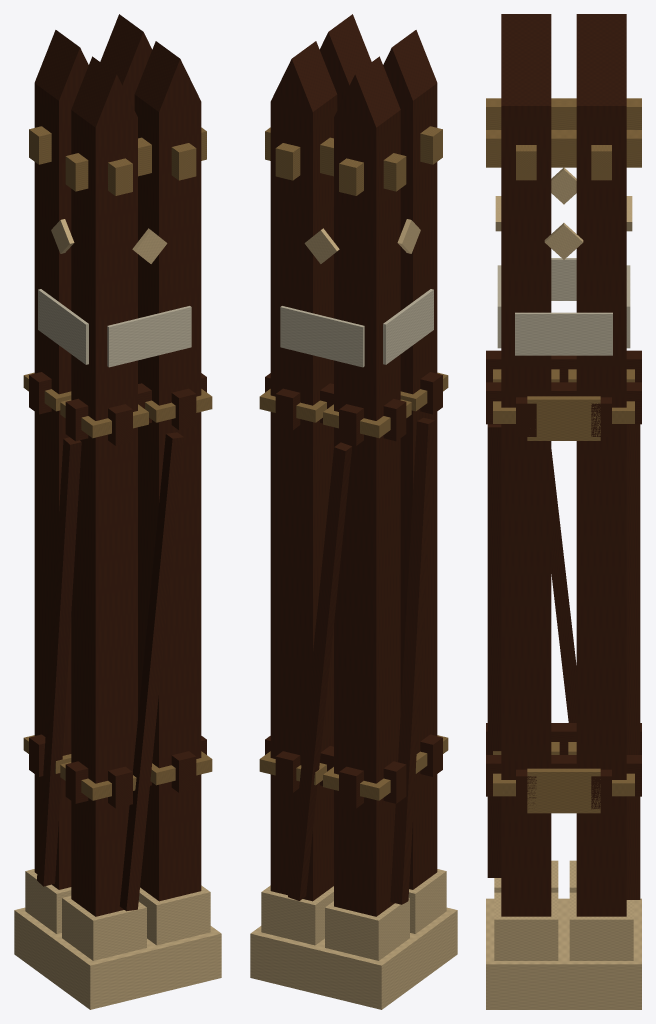
File: Berber_PalisadeBastion_Age4_terminal.fbx
3 renders of one model, left to right at view 1: azimuth 30°, elevation 25°; view 2: azimuth 150°, elevation 25°; view 3: azimuth 270°, elevation 25°, orthographic. The views are drawn at different scales.
Parts seen in each view (by area): view 1: split_timber_upright, split_timber_upright.002, split_timber_upright.001, compacted_earth_footing, terminal_diagonal_stay.004, terminal_diagonal_stay.002, earth_post_socket, native_owner_stripe_source.002, earth_post_socket.002, split_timber_upright.003, native_owner_stripe_source, earth_post_socket.001 (+17 smaller); view 2: split_timber_upright.001, split_timber_upright.003, split_timber_upright, compacted_earth_footing, terminal_diagonal_stay.002, terminal_diagonal_stay, earth_post_socket.001, native_owner_stripe_source.003, earth_post_socket.003, split_timber_upright.002, native_owner_stripe_source, earth_post_socket (+17 smaller); view 3: split_timber_upright.002, split_timber_upright.003, compacted_earth_footing, terminal_diagonal_stay, terminal_diagonal_stay.004, native_owner_stripe_source.001, earth_post_socket.002, earth_post_socket.003, exposed_wall_socket_collar, terminal_diagonal_stay.002, exposed_wall_socket_collar.001, locking_head_tie_y.001 (+19 smaller).
Boxes of the visible parts, x1,y1,x2,y2 form: split_timber_upright: [71, 56, 137, 916]; split_timber_upright.002: [134, 41, 201, 901]; split_timber_upright.001: [34, 30, 88, 889]; compacted_earth_footing: [14, 907, 221, 1009]; terminal_diagonal_stay.004: [119, 432, 183, 911]; terminal_diagonal_stay.002: [37, 437, 81, 886]; earth_post_socket: [62, 896, 146, 960]; native_owner_stripe_source.002: [107, 306, 191, 367]; earth_post_socket.002: [138, 885, 210, 945]; split_timber_upright.003: [100, 14, 152, 109]; native_owner_stripe_source: [38, 289, 88, 364]; earth_post_socket.001: [25, 869, 71, 933]; split_timber_upright.001: [334, 56, 400, 916]; split_timber_upright.003: [270, 41, 337, 901]; split_timber_upright: [383, 30, 437, 889]; compacted_earth_footing: [250, 907, 457, 1009]; terminal_diagonal_stay.002: [390, 417, 434, 904]; terminal_diagonal_stay: [288, 442, 352, 900]; earth_post_socket.001: [325, 898, 409, 960]; native_owner_stripe_source.003: [280, 306, 364, 367]; earth_post_socket.003: [261, 885, 333, 945]; split_timber_upright.002: [319, 14, 371, 109]; native_owner_stripe_source: [383, 289, 433, 364]; earth_post_socket: [408, 869, 446, 933]; split_timber_upright.002: [501, 46, 551, 916]; split_timber_upright.003: [576, 46, 626, 916]; compacted_earth_footing: [486, 898, 641, 1009]; terminal_diagonal_stay: [626, 424, 640, 899]; terminal_diagonal_stay.004: [487, 424, 501, 877]; native_owner_stripe_source.001: [515, 312, 612, 355]; earth_post_socket.002: [494, 892, 558, 960]; earth_post_socket.003: [569, 892, 633, 960]; exposed_wall_socket_collar: [527, 768, 600, 813]; terminal_diagonal_stay.002: [551, 449, 576, 722]; exposed_wall_socket_collar.001: [527, 396, 600, 440]; locking_head_tie_y.001: [486, 130, 641, 167].
Bounding box in the file's own units: 68.29 × 458 × 68.29.
4 materials, 4 textured.
